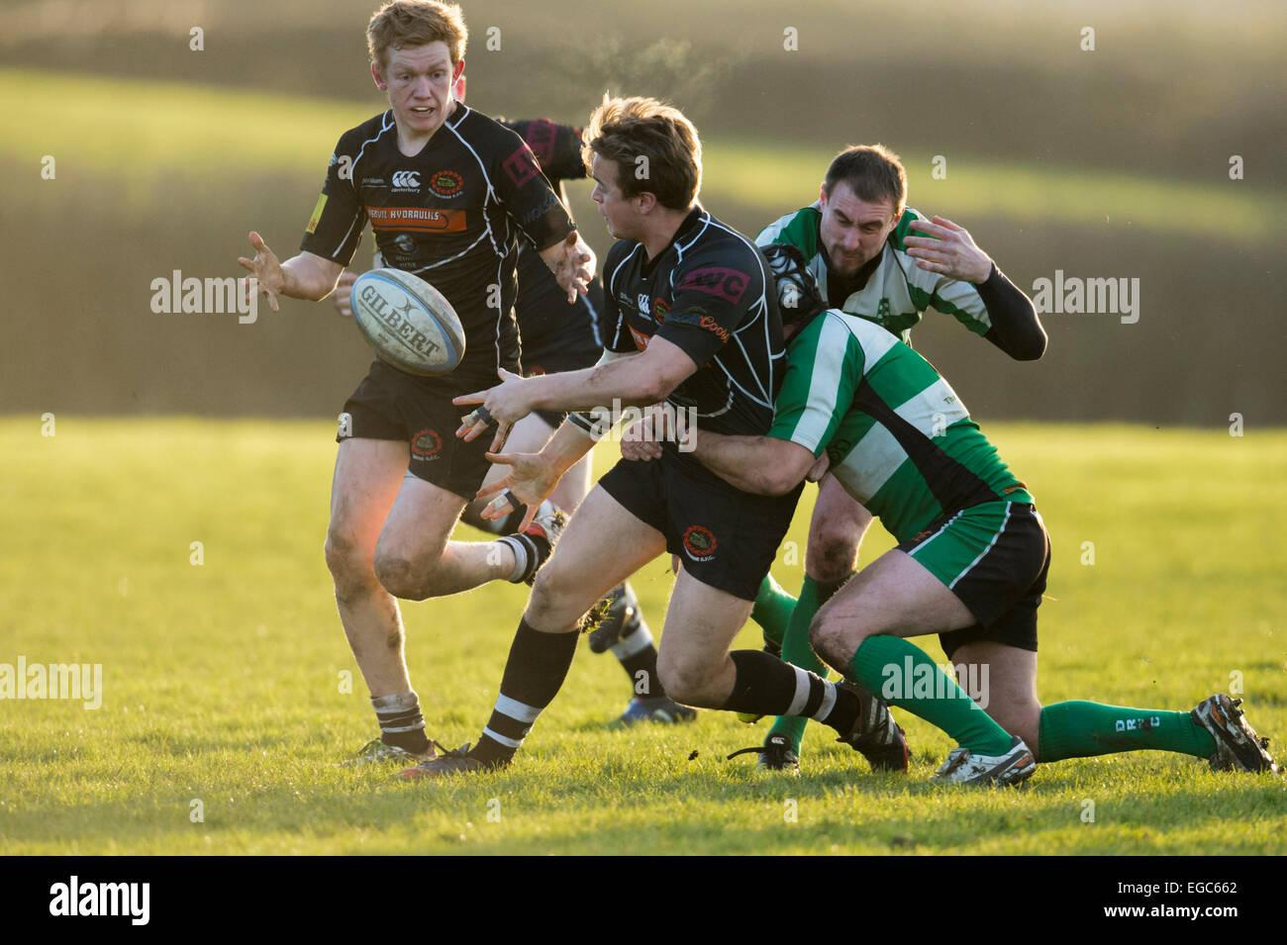ballon_rugby: (344, 249, 468, 383)
